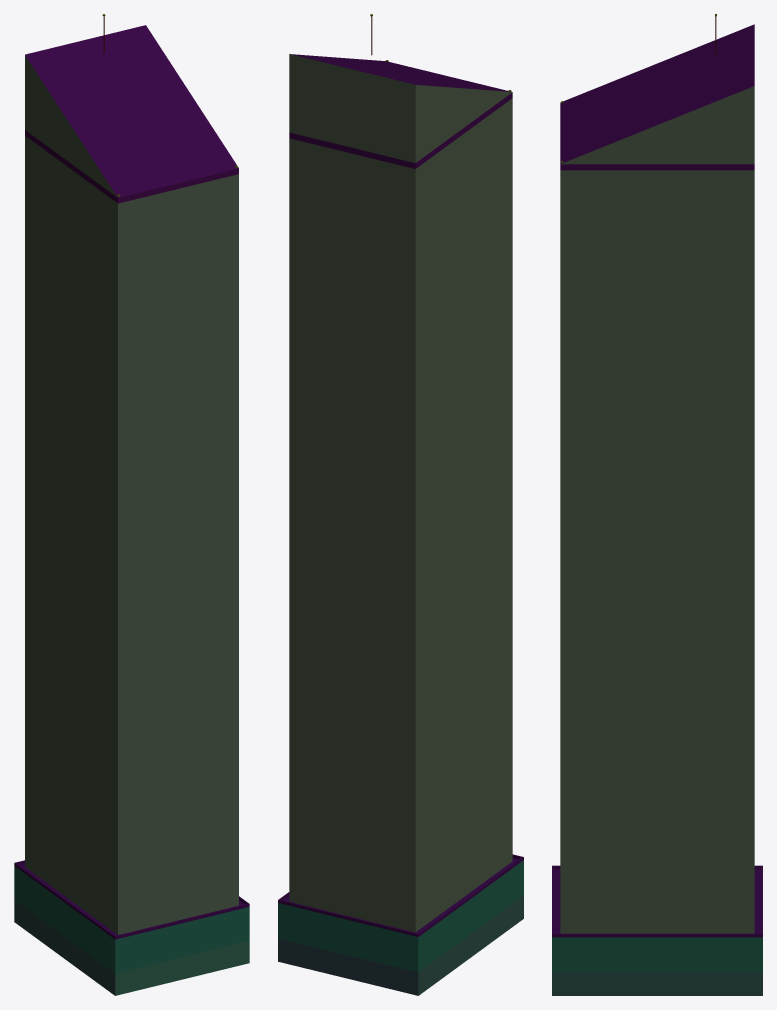
File: tower_f.glb
The picture shows the model from 3 angles, left to right: view 1: azimuth 30°, elevation 25°; view 2: azimuth 150°, elevation 25°; view 3: azimuth 270°, elevation 25°; orthographic projection. The views are drawn at different scales.
Visible parts, largest first — view 1: tower_f; view 2: tower_f; view 3: tower_f.
Boxes of the visible parts, <box> form: tower_f: <box>14,14,249,995</box>; tower_f: <box>278,14,523,995</box>; tower_f: <box>552,14,762,995</box>.
Bounding box in the file's own units: 29.99 × 193 × 39.01.
